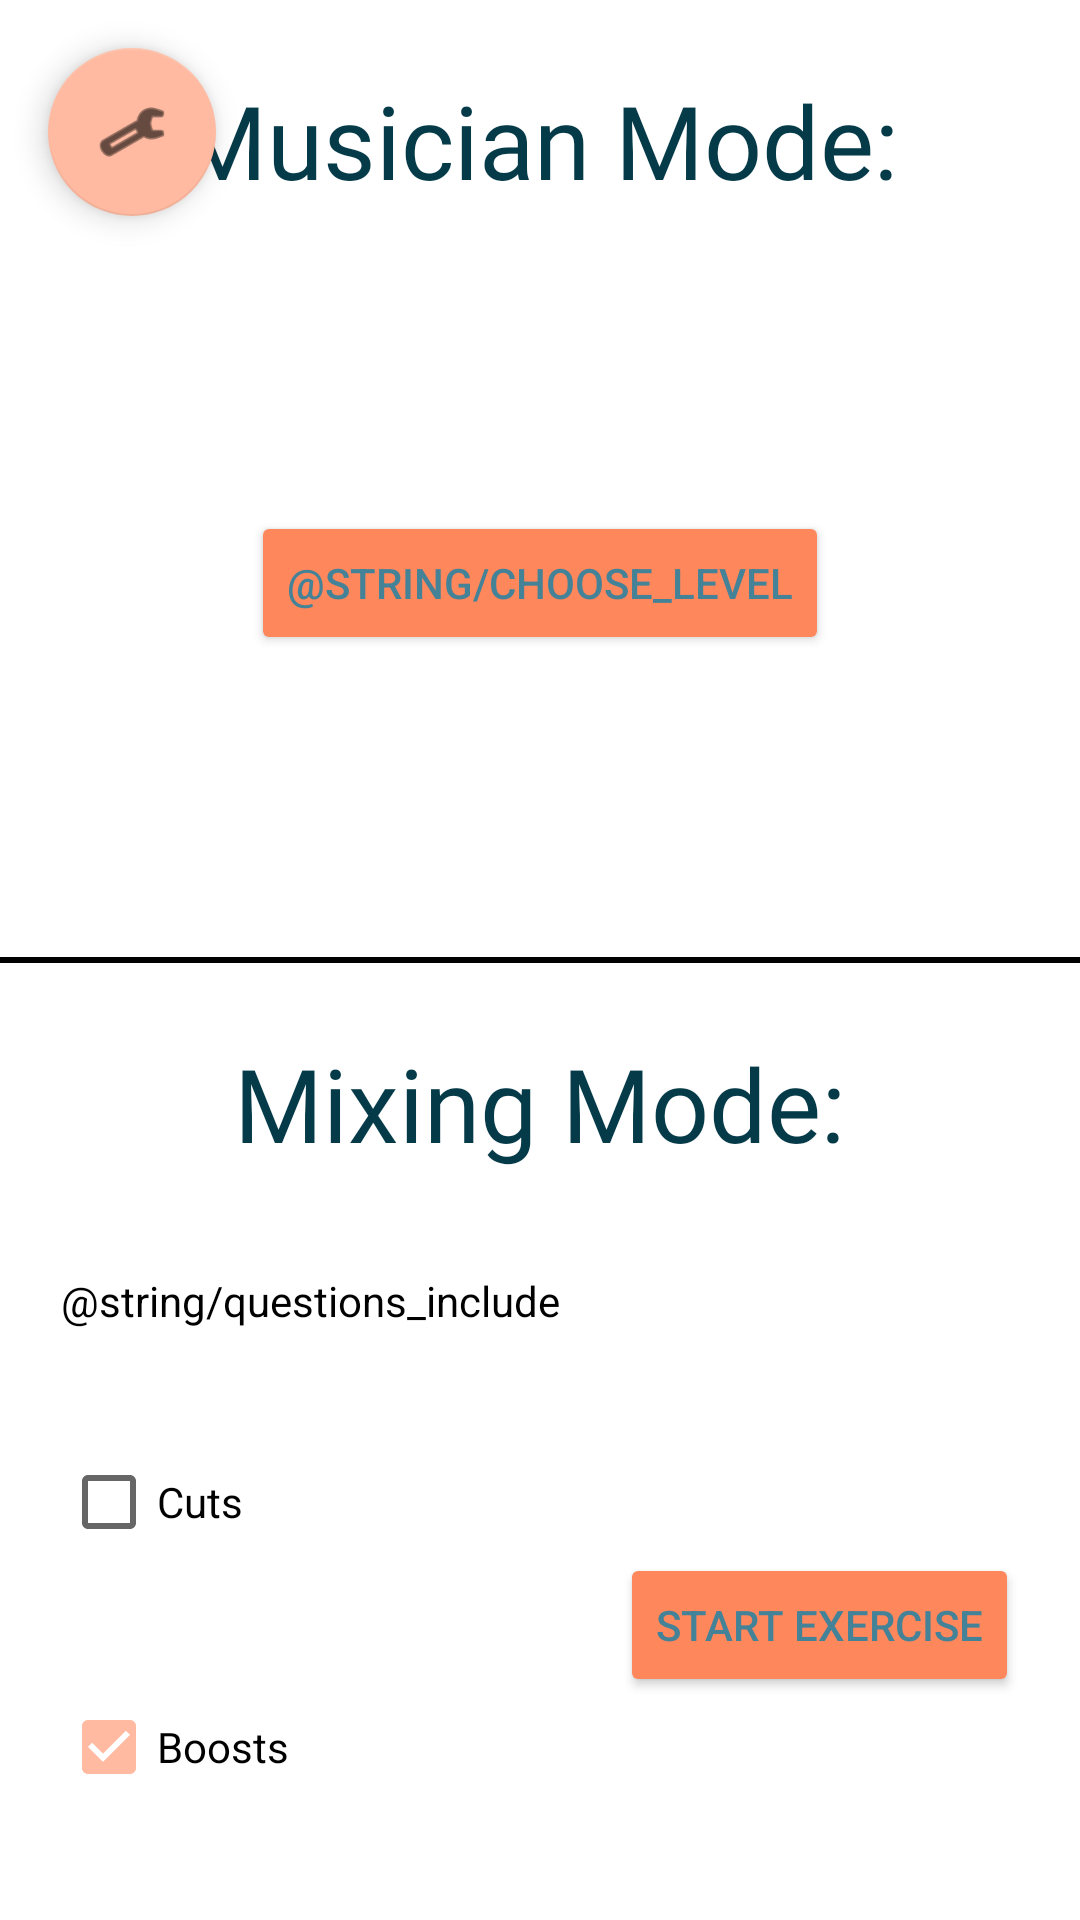

Named icons in this screenshot (1080px×1920px) and their bounding boxes, (x1, y1, x2, y2):
Settings: (48, 48, 216, 216)
